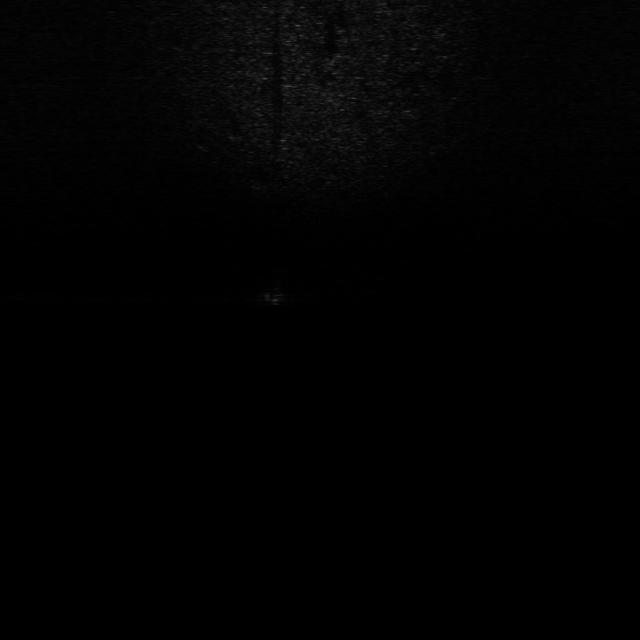human body: (250, 273, 290, 308)
